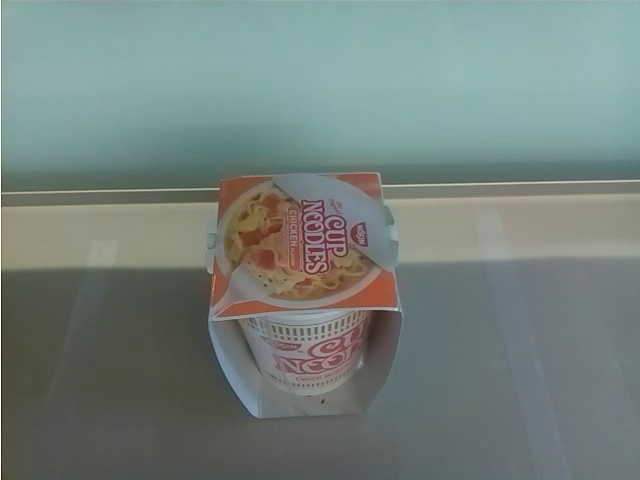noodles: (203, 169, 409, 423)
